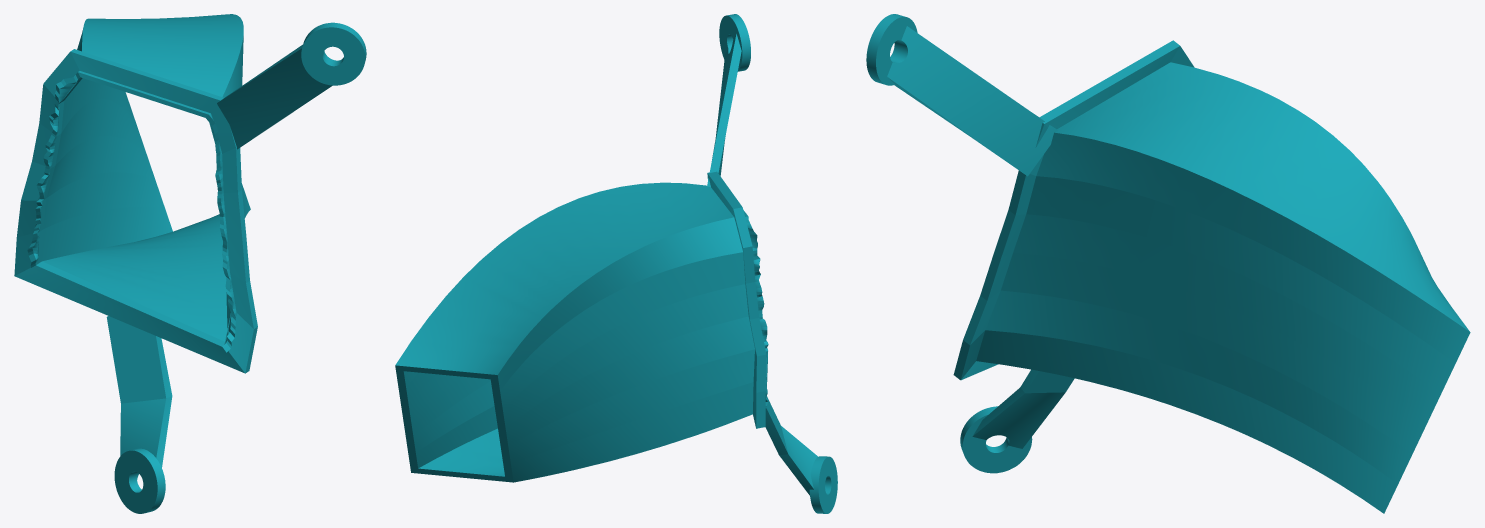
3 renders of one model, left to right at view 1: azimuth 30°, elevation 25°; view 2: azimuth 150°, elevation 25°; view 3: azimuth 270°, elevation 25°, orthographic. The views are drawn at different scales.
Visible parts, largest first — view 1: v1_terminal_trial; view 2: v1_terminal_trial; view 3: v1_terminal_trial.
Part boxes in pixels (x1=…): v1_terminal_trial: x1=14, y1=14, x2=366, y2=513; v1_terminal_trial: x1=395, y1=14, x2=837, y2=513; v1_terminal_trial: x1=866, y1=14, x2=1470, y2=513.
Bounding box in the file's own units: 0.1022 × 0.1492 × 0.1531.
